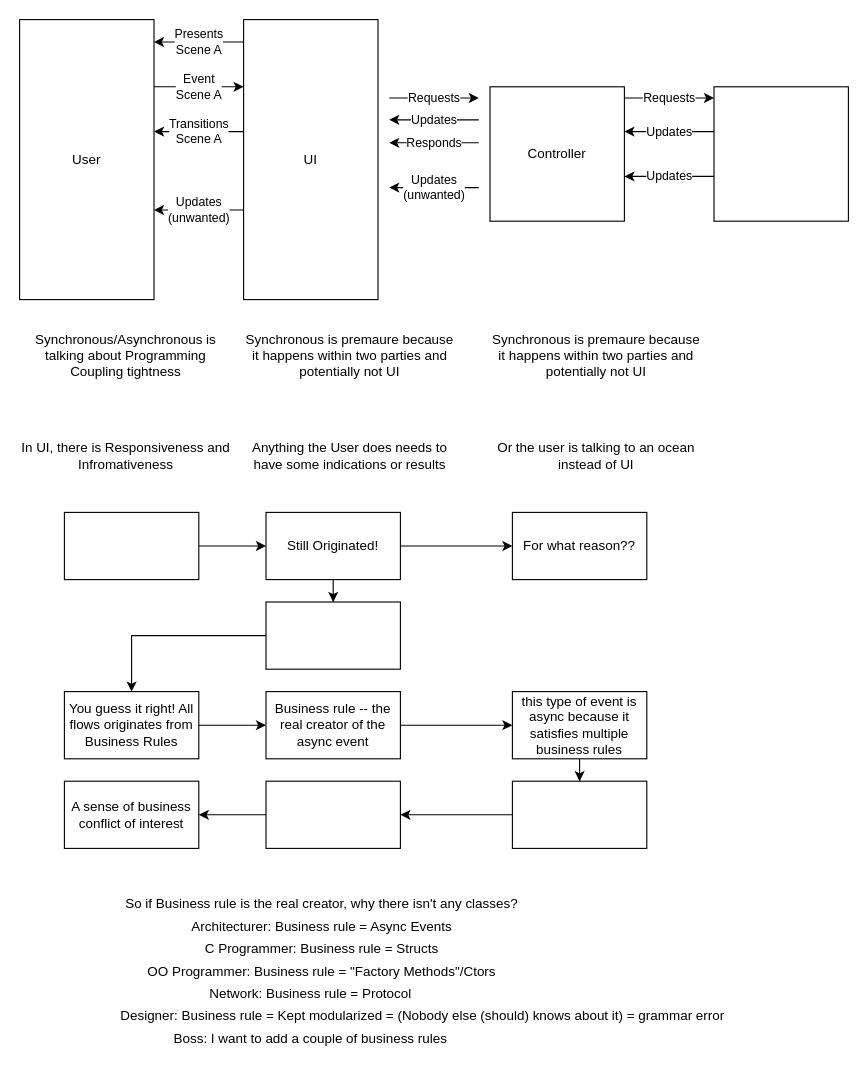
The diagram is 868 pixels wide and 1070 high, and some of its shapes have lost their labels. Here are the shapes that lost their labels. From the top down, the centre of each, then its label:
pixel 780 153: Modules
pixel 131 545: What is "Asynchronous"
pixel 332 635: Who has created this premature async event that broke our business logic?
pixel 332 814: Other Business rule furloughed
pixel 579 814: Data-Driven in disguise
